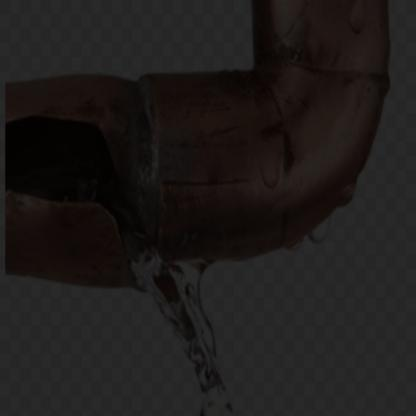burst: (1, 113, 154, 263)
